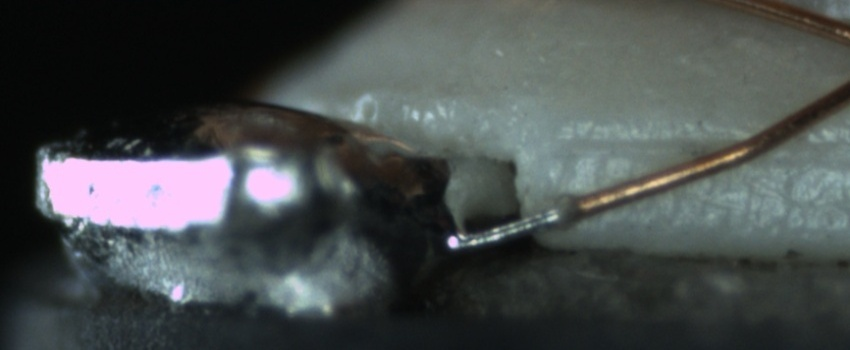DL: (551, 113, 843, 179)
TS: (439, 199, 578, 255)
TTCW: (441, 182, 630, 258)
